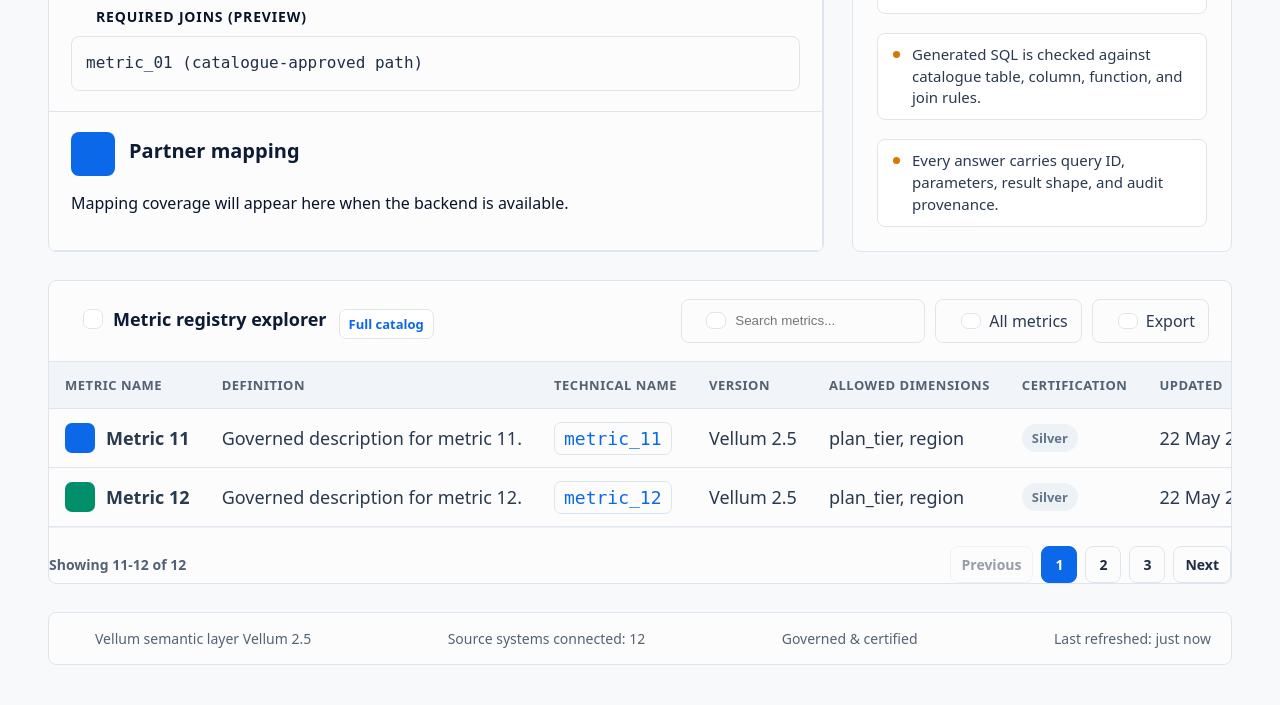
Scenario: CatalogueExplorer registry filters › resets to the newest registry page when All metrics is clicked
(page scrolled)
Expected: the text "Metric 11" is shown, [65, 423, 190, 453]
Expected: the text "Metric 12" is shown, [65, 482, 190, 512]
Click the button "2" at coordinates (1104, 564), box [1086, 546, 1122, 583]
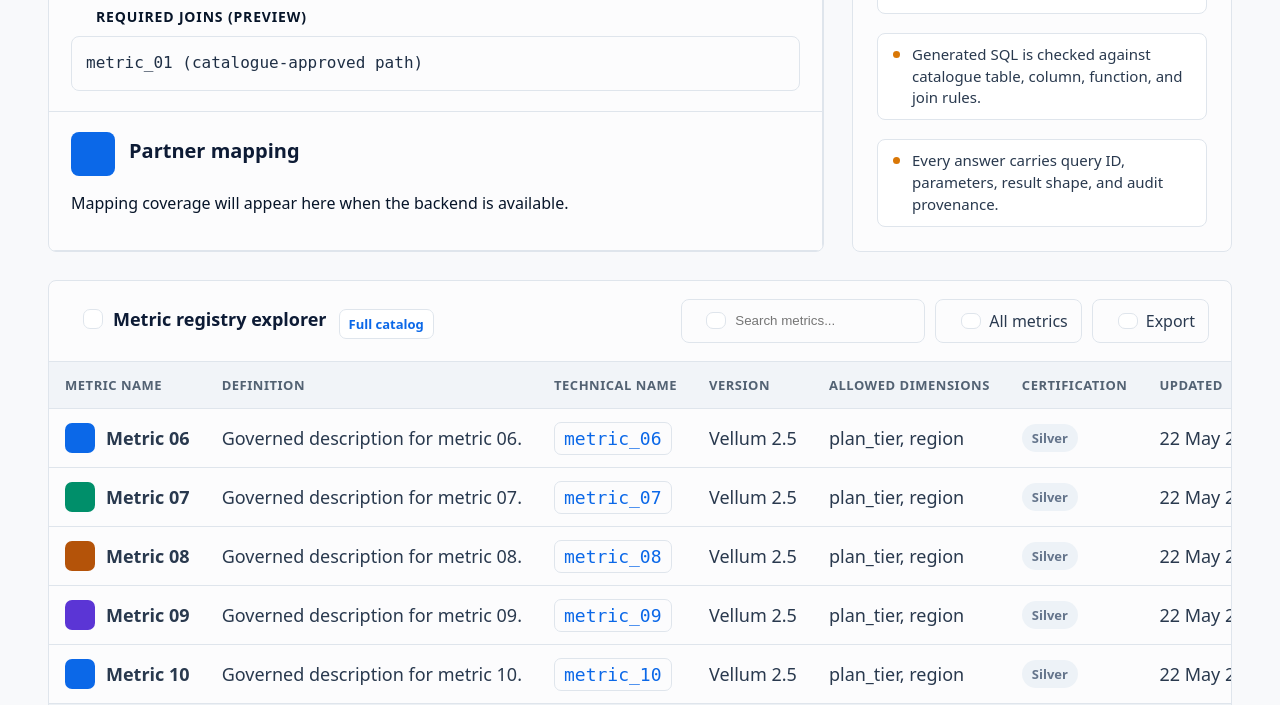
Result: the text "Metric 06" is shown at [65, 423, 190, 453]
Result: the text "Metric 12" is gone
Click the button "All metrics" at coordinates (1009, 321), box [935, 299, 1082, 343]
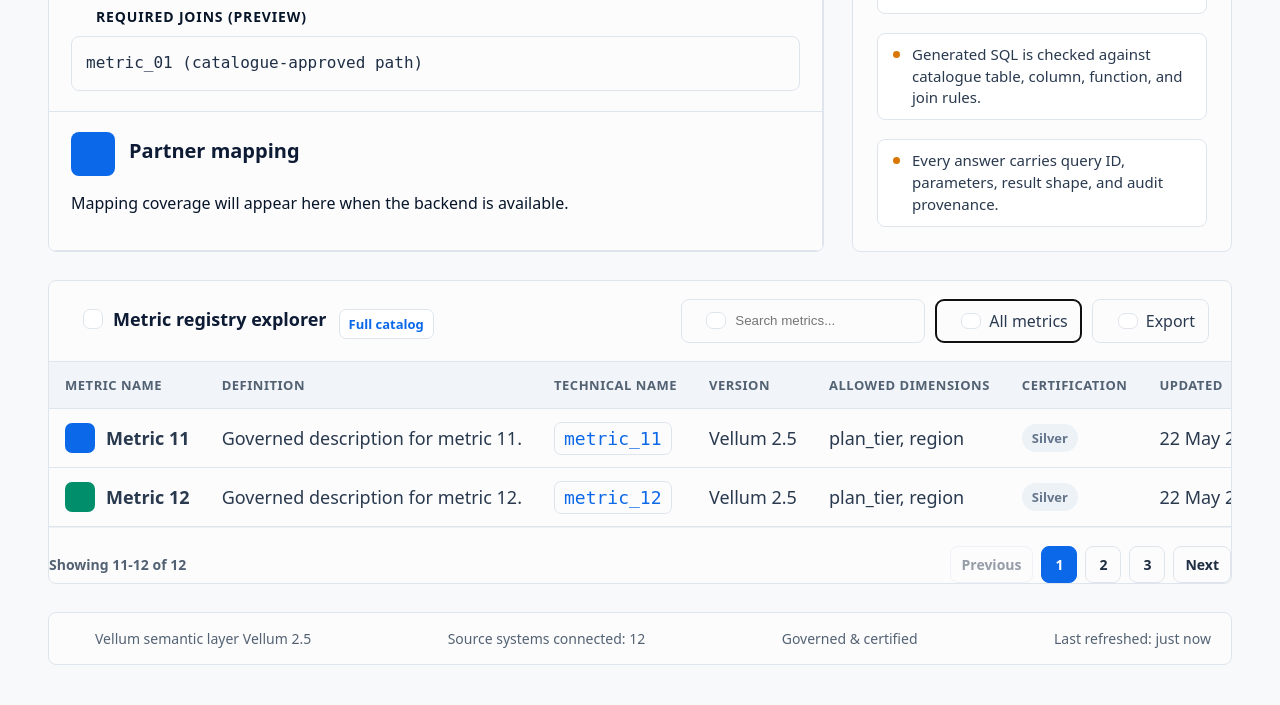
Result: the text "Metric 11" is shown at [65, 423, 190, 453]
Result: the text "Metric 12" is shown at [65, 482, 190, 512]
Result: the text "Metric 06" is gone
